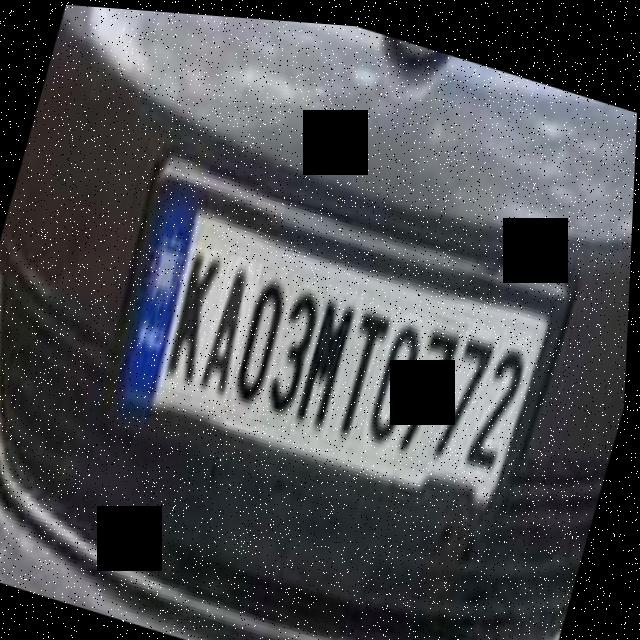0: (228, 259, 298, 413), (364, 302, 432, 447)
3: (261, 271, 333, 429)
7: (396, 304, 471, 469), (434, 306, 504, 471)
A: (193, 249, 265, 411)
K: (157, 238, 235, 395)
M: (291, 283, 364, 436)
T: (327, 290, 399, 449)
